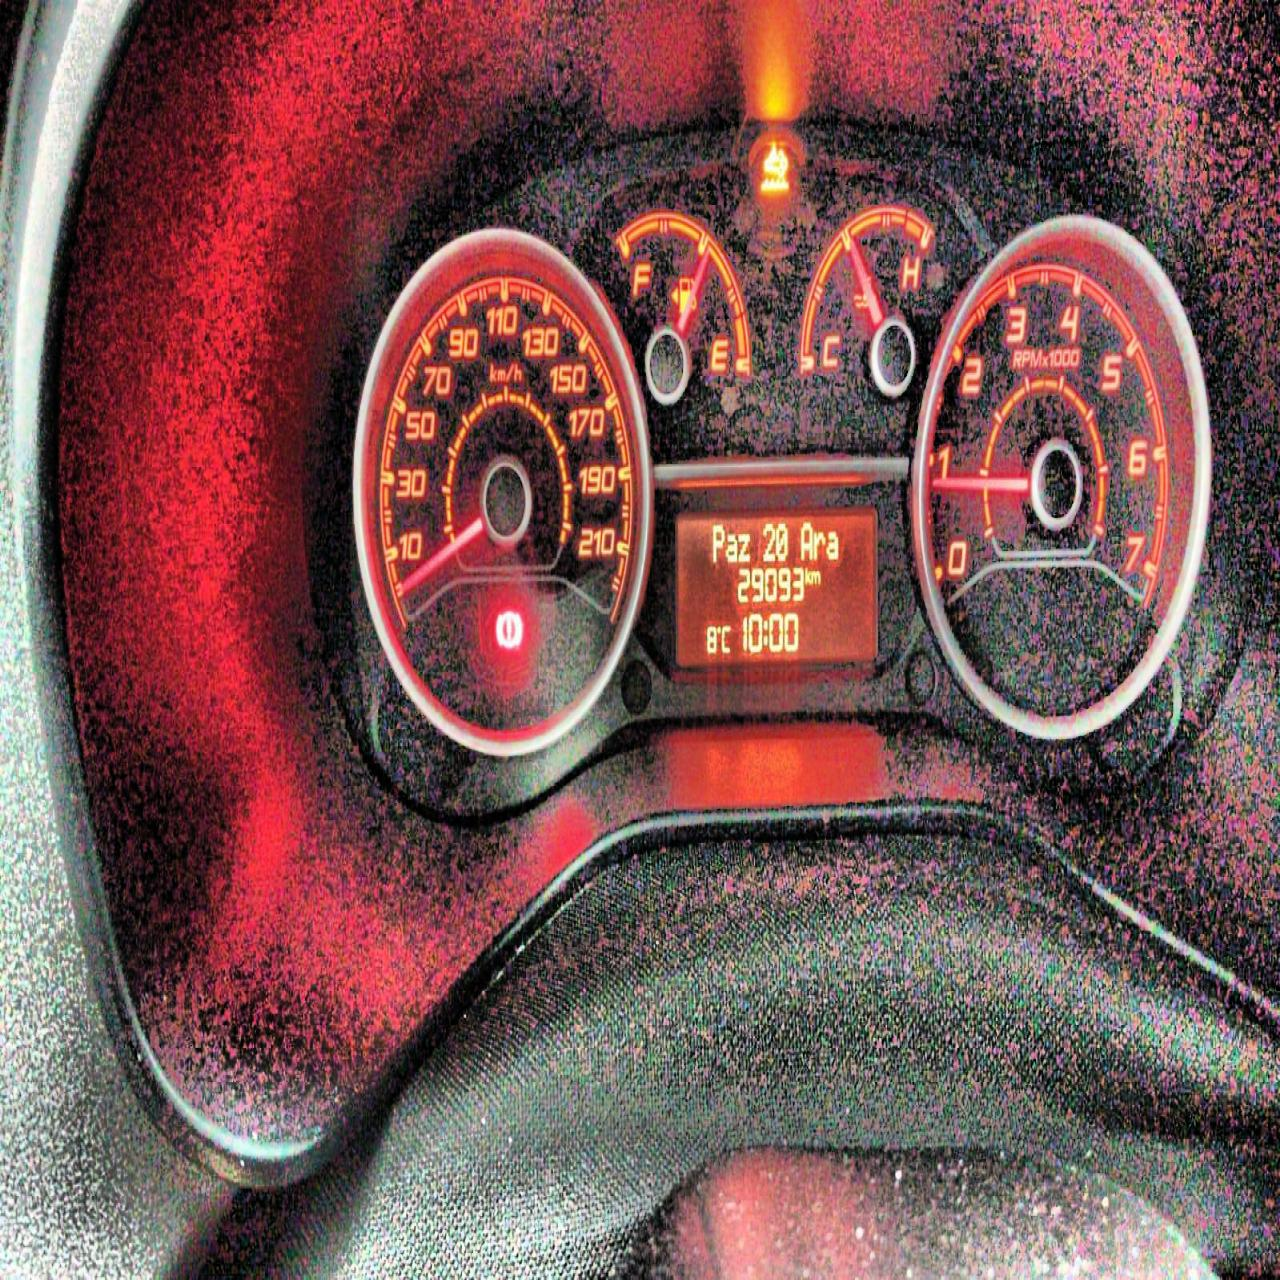0: (783, 610, 801, 652), (768, 611, 783, 653), (748, 612, 761, 652), (775, 522, 788, 560), (764, 565, 777, 602)
1: (741, 612, 747, 652)
2: (761, 519, 775, 563), (737, 564, 749, 602)
3: (791, 565, 803, 604)
8: (706, 622, 716, 652)
9: (777, 564, 790, 602), (750, 565, 762, 604)
X: (710, 520, 723, 564), (738, 529, 753, 564), (801, 522, 812, 560), (826, 527, 839, 561), (813, 527, 824, 561), (726, 530, 736, 563), (721, 624, 731, 654), (762, 614, 768, 646), (811, 566, 821, 584), (804, 565, 811, 585)
odometer: (673, 510, 879, 663)
